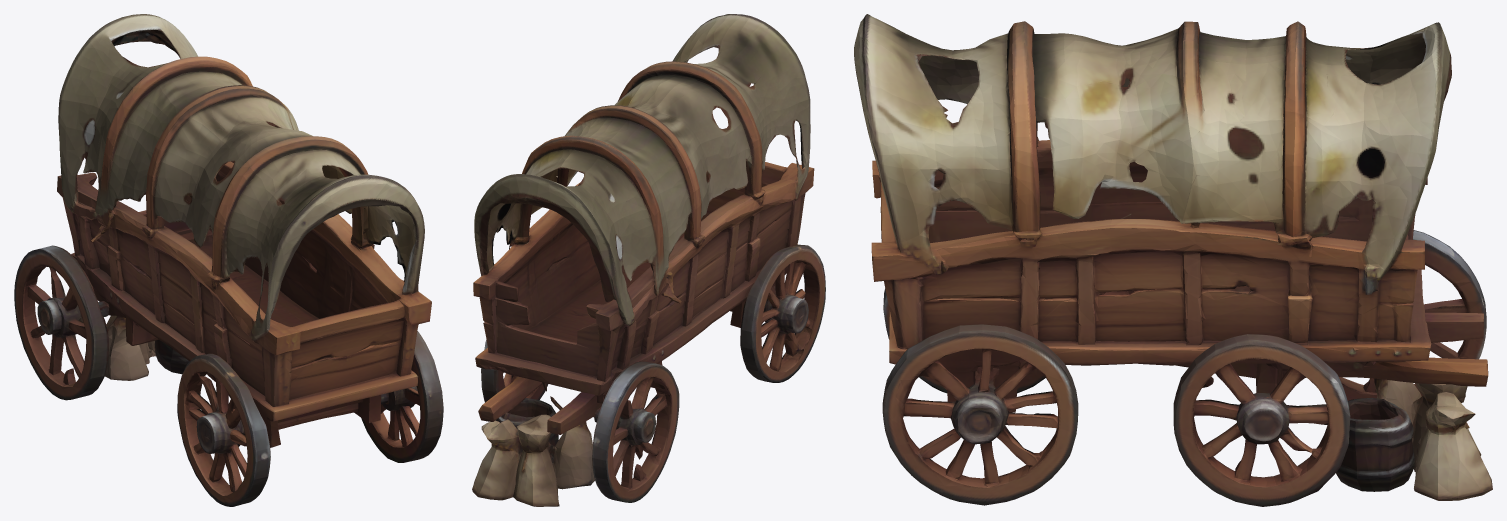
File: wagon.glb
3 views of the same model, side by side, from view 1: azimuth 30°, elevation 25°; view 2: azimuth 150°, elevation 25°; view 3: azimuth 270°, elevation 25° (orthographic). The views are drawn at different scales.
Parts seen in each view (by area): view 1: geometry_0; view 2: geometry_0; view 3: geometry_0.
Part boxes in pixels (x1,y1,x2,y2): geometry_0: (14,14,443,506); geometry_0: (472,14,825,506); geometry_0: (854,14,1492,506).
Bounding box in the file's own units: 0.4721 × 0.7447 × 0.9786.
Materials: 1 (1 with a texture image).
